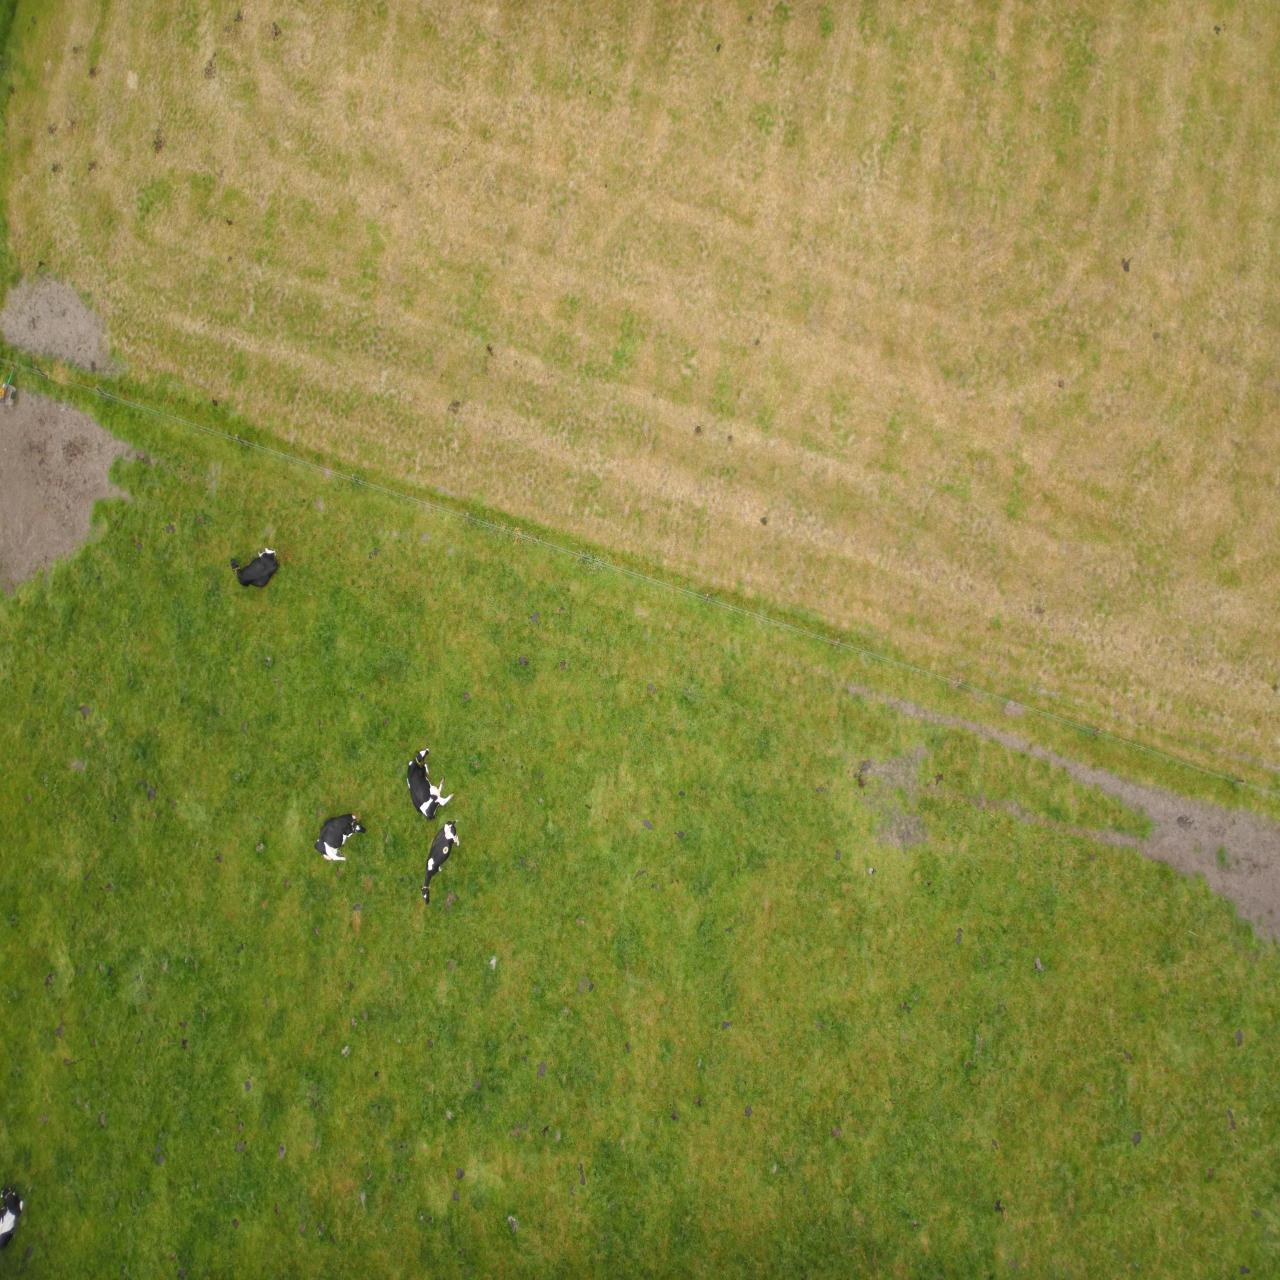cow: (825, 461, 873, 532), (821, 375, 860, 461), (914, 418, 966, 467), (1002, 692, 1050, 733)
